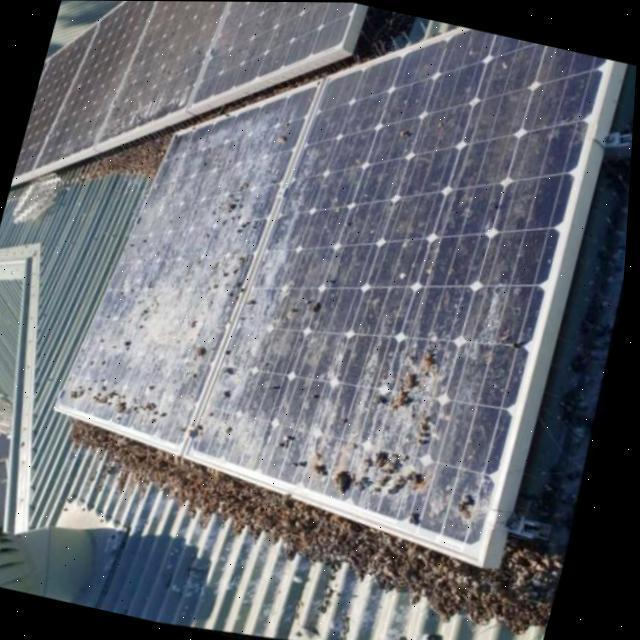Anomaly Solar Panel: (57, 27, 609, 550)
Surface Contaminant: (60, 27, 607, 546), (15, 1, 354, 177)
